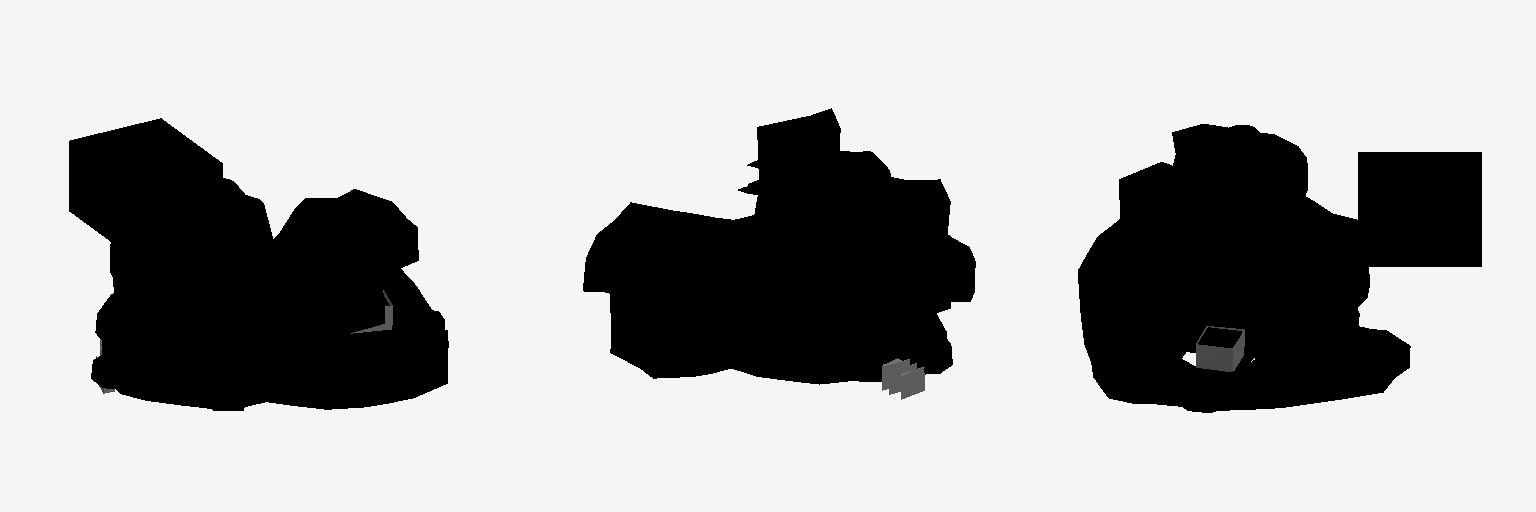
Rendered from level.obj.
3 views of the same model, side by side, from view 1: azimuth 30°, elevation 25°; view 2: azimuth 150°, elevation 25°; view 3: azimuth 270°, elevation 25° (orthographic).
Visible parts, largest first — view 1: polySurface367; view 2: polySurface367; view 3: polySurface367.
Part boxes in pixels (x1,y1,x2,y2): polySurface367: (69,118,448,410); polySurface367: (583,108,975,399); polySurface367: (1078,124,1481,412).
Bounding box in the file's own units: 269 × 150 × 280.